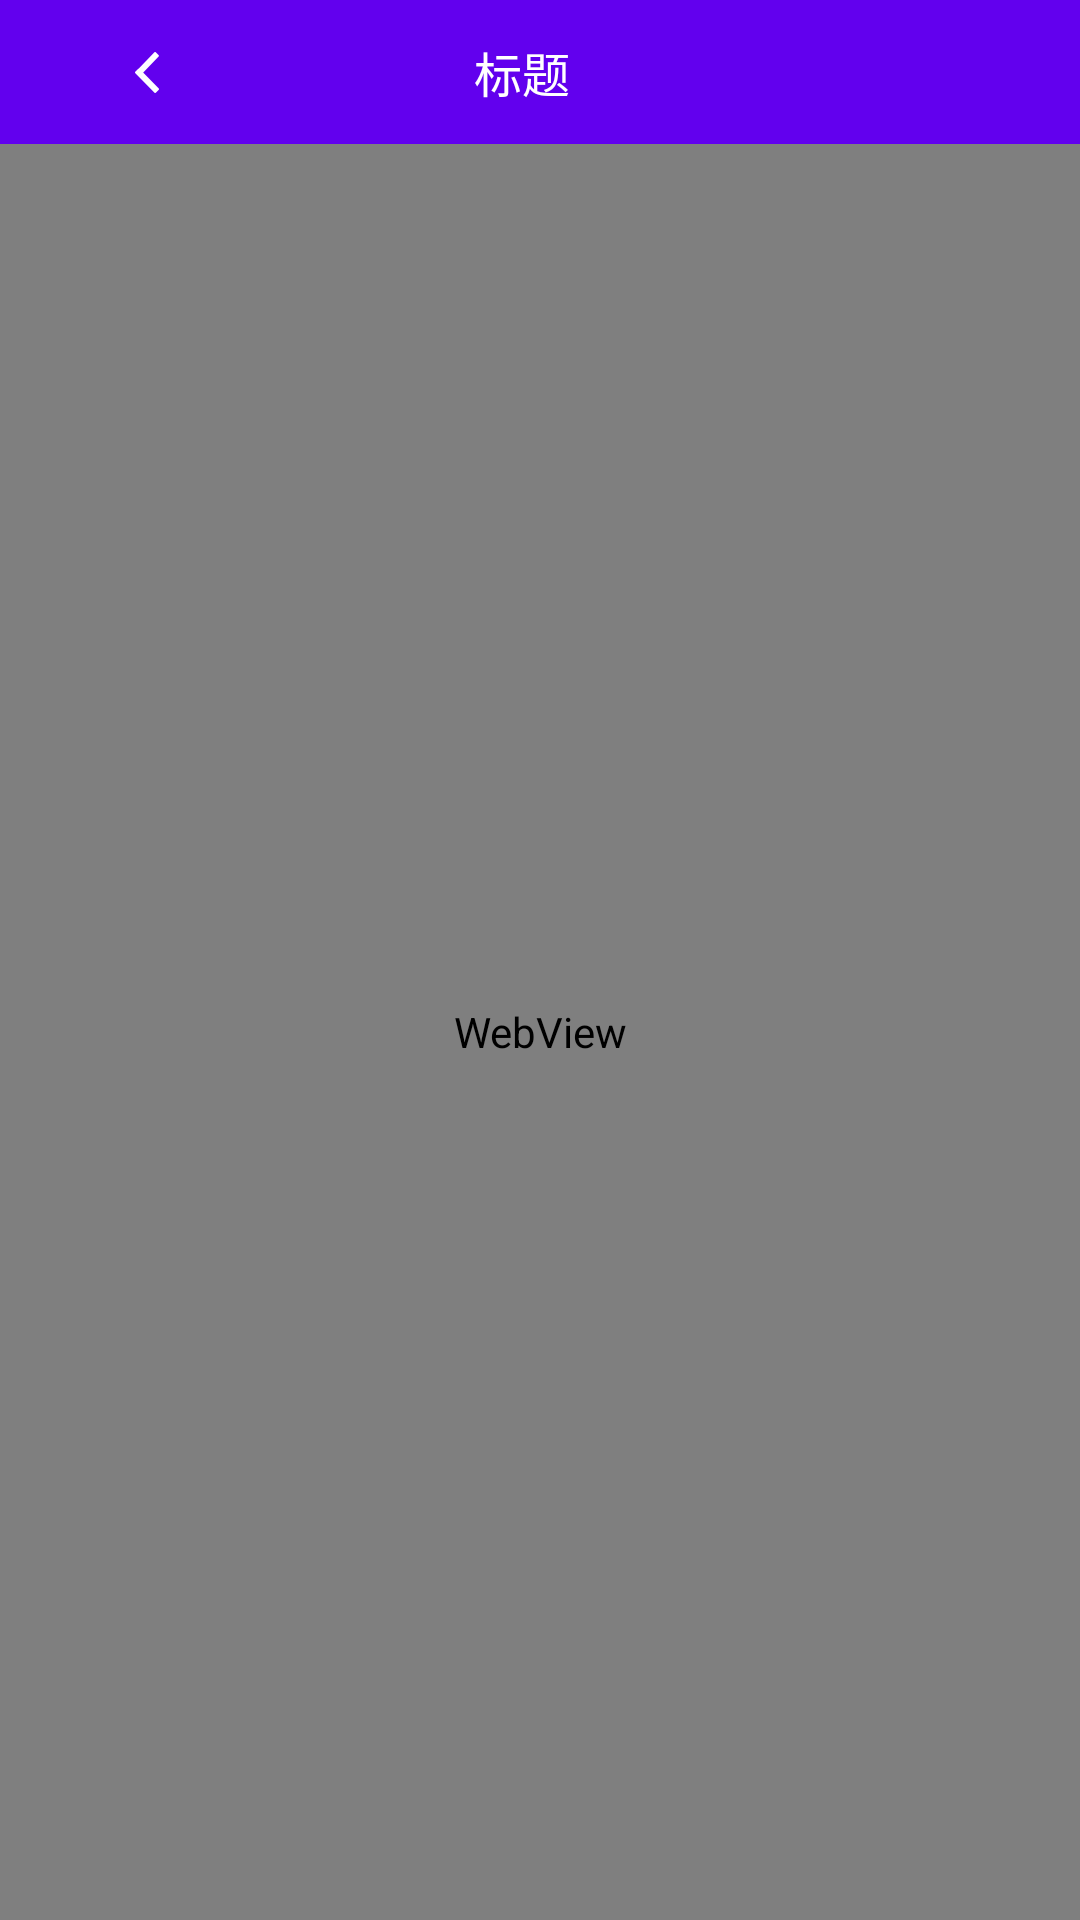

Screen size 1080px×1920px. Icon name, then its box in pixels as (x1, y1, x2, y2):
back: (135, 52, 159, 93)
